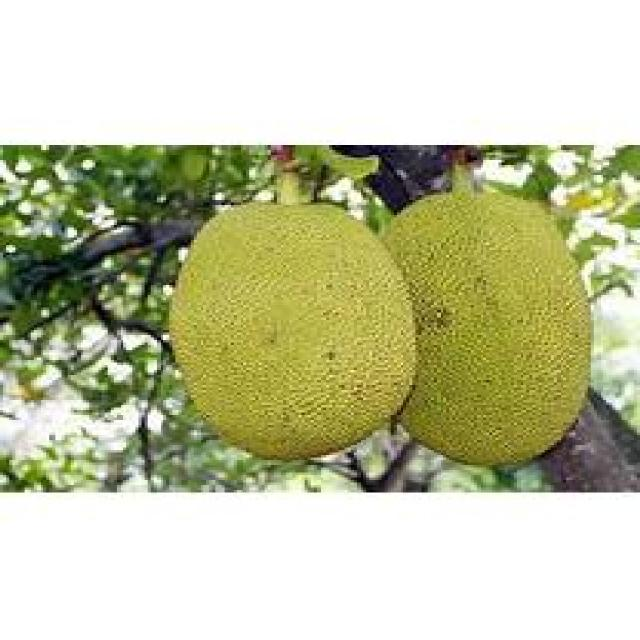Fruit: (302, 178, 606, 482), (151, 185, 434, 480)
